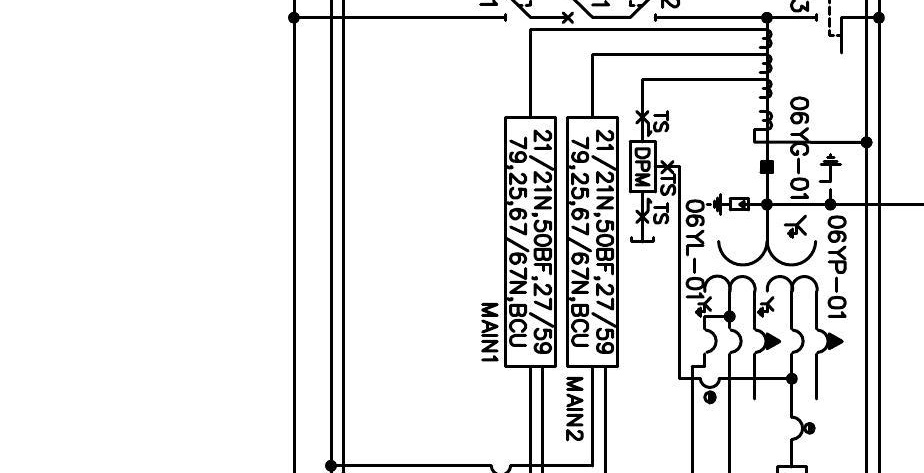115_gs: (818, 152, 843, 193)
115_la: (705, 192, 750, 217)
115_vt_3p: (694, 214, 845, 355)
DPM: (629, 140, 657, 193)
